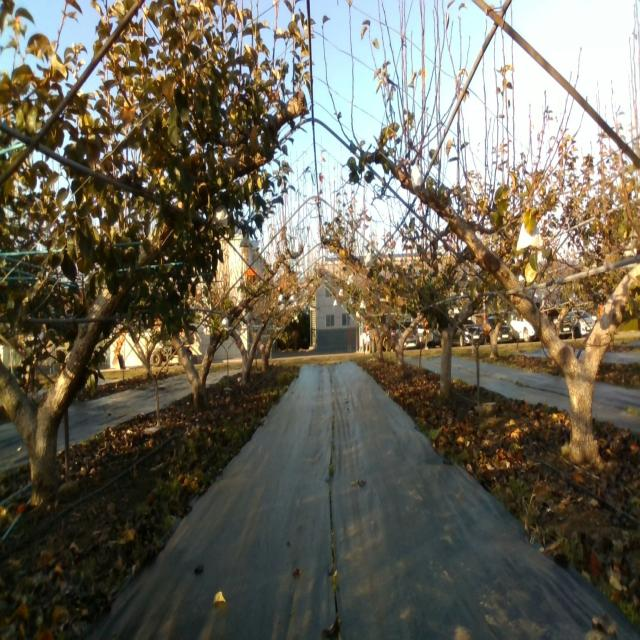pearbags: (516, 221, 544, 250), (212, 200, 228, 229), (410, 164, 422, 196)
